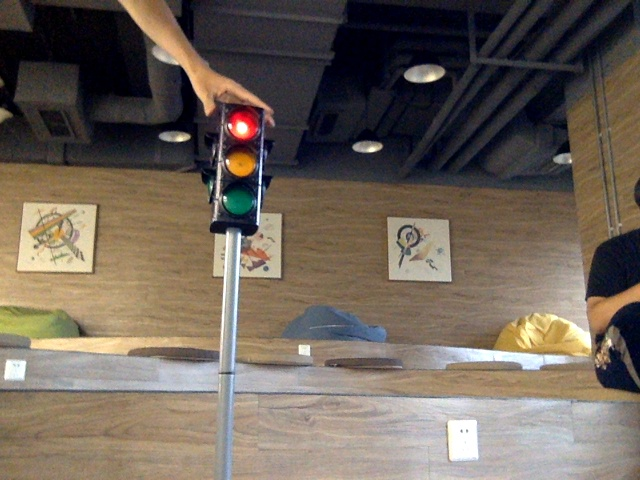red: (220, 108, 255, 221)
